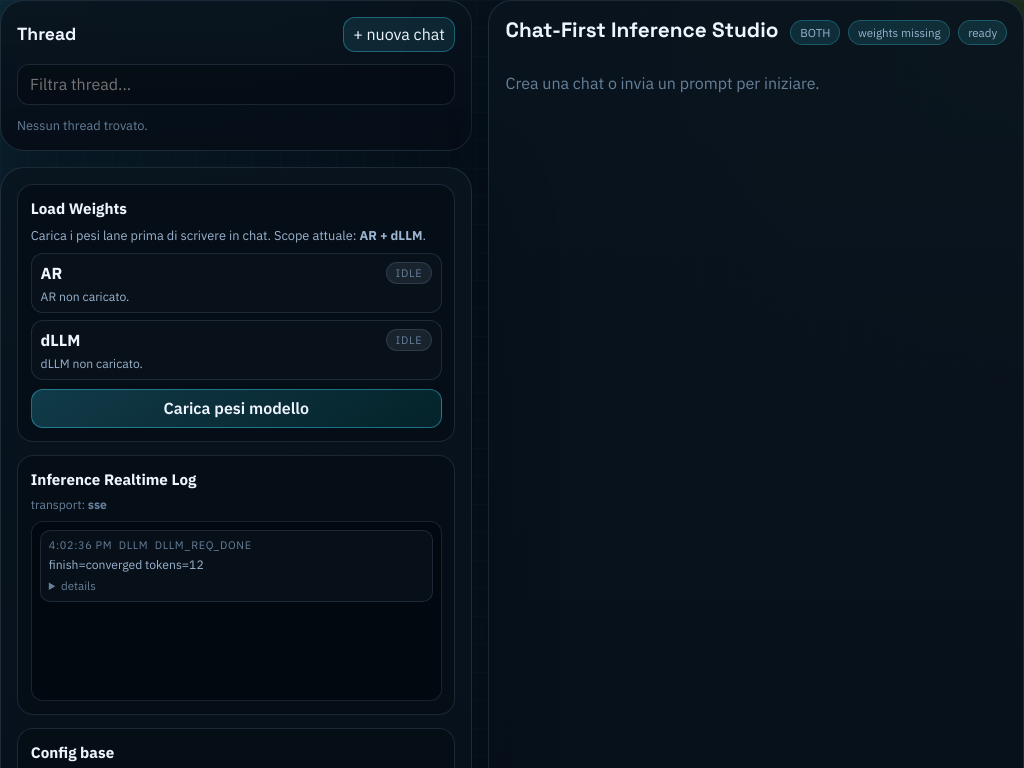
Scenario: ChatPage › renders realtime inference panel and ingests SSE log events
Check: the heading "Inference Realtime Log" is shown, box [31, 469, 196, 489]
Check: the text "DLLM_REQ_DONE" is shown, box [155, 538, 252, 552]
Step 1. Click the heading "details" → point(78, 586), box [61, 578, 96, 593]
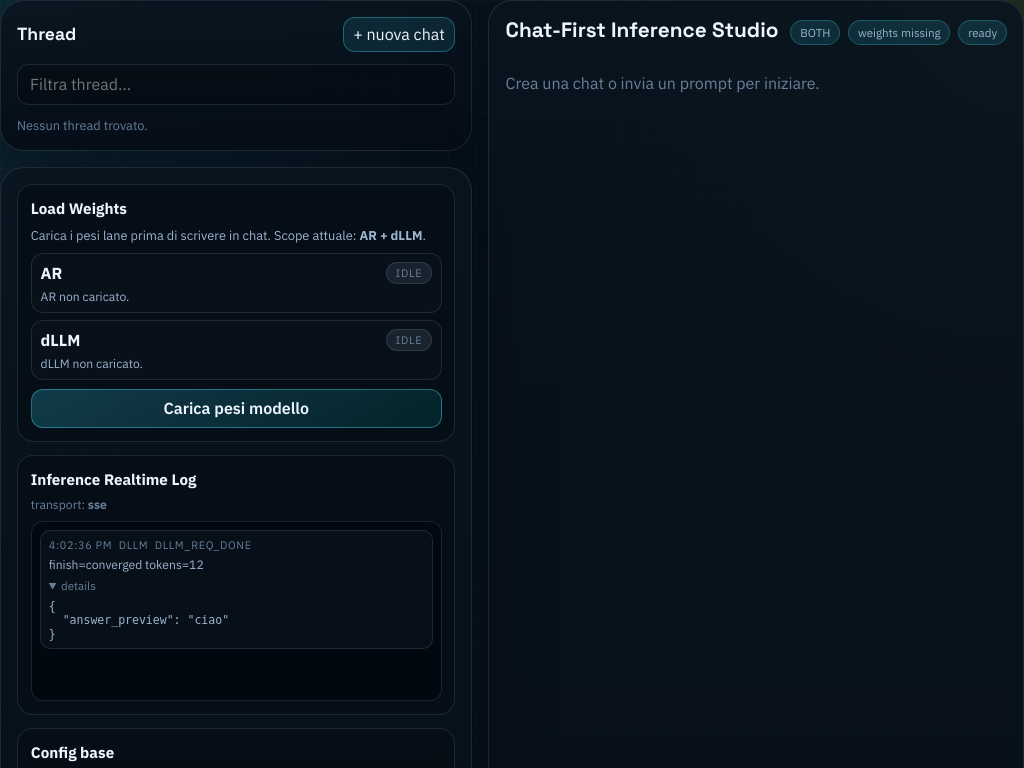
Check: the text "{ \"answer_preview\": \"ciao\" }" is shown, box [49, 599, 229, 641]
